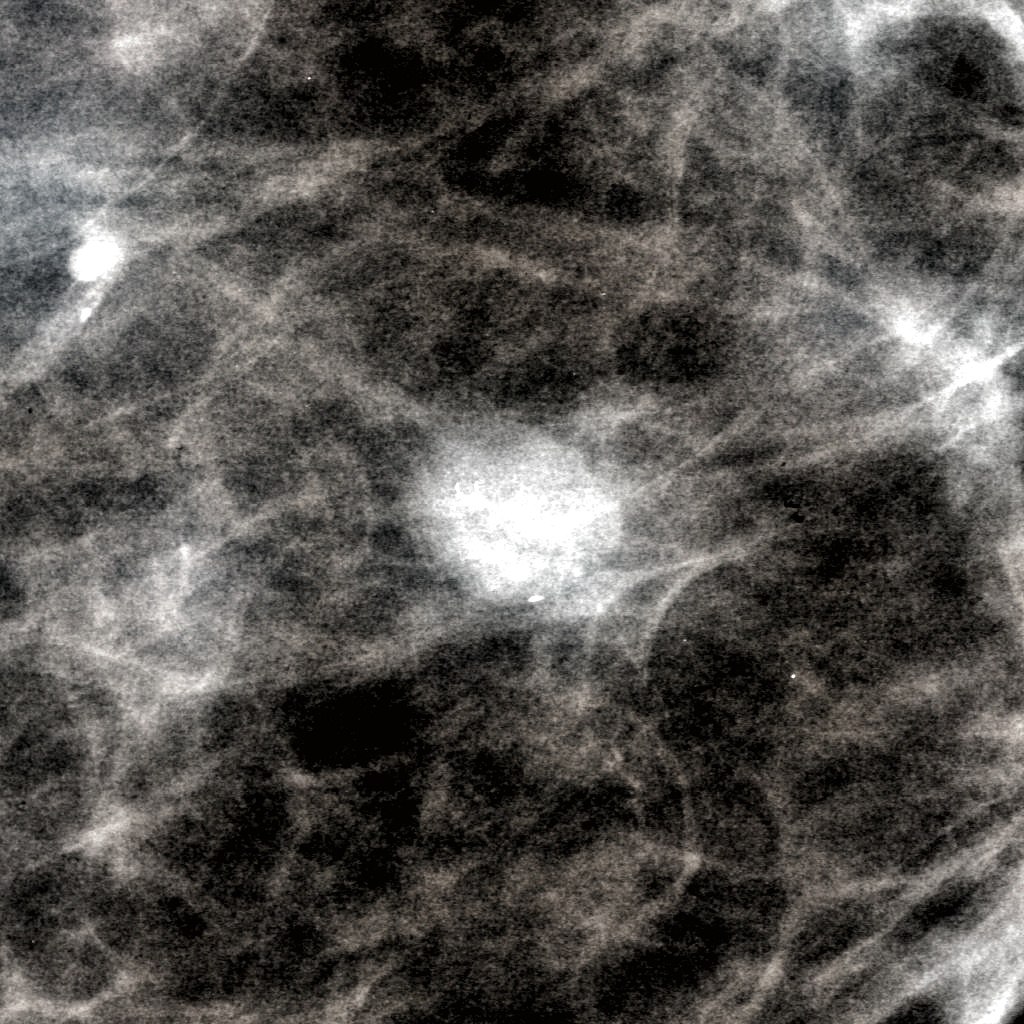tumor: (393, 400, 631, 624)
